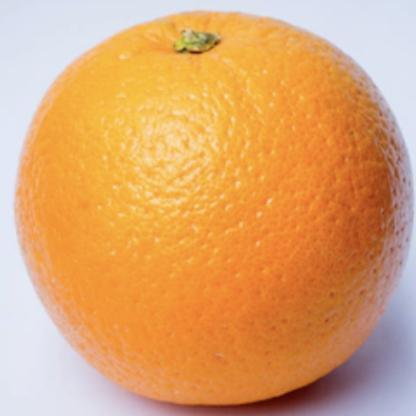fresh: (19, 10, 412, 406)
